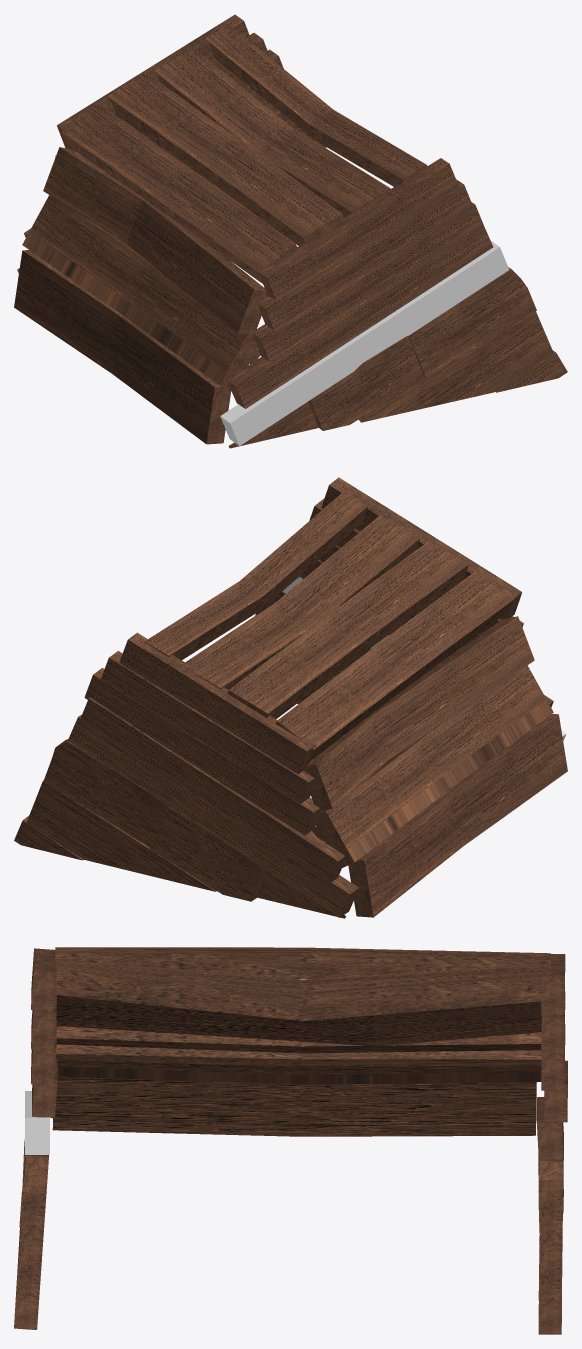
The model's file is Mine.fbx.
3 renders of one model, top to bottom at view 1: azimuth 30°, elevation 25°; view 2: azimuth 150°, elevation 25°; view 3: azimuth 270°, elevation 25°, orthographic. The views are drawn at different scales.
Parts seen in each view (by area): view 1: Plank.006, Plank.016, Plank.028, Plank.026, Plank.027, Plank.025, Plank, Plank.024, Plank.001, Plank.015, Plank.012, Plank.002 (+6 smaller); view 2: Plank.006, Plank.016, Plank.028, Plank.026, Plank.027, Plank.025, Plank.024, Plank.007, Plank.014, Plank.030, Plank.018, Plank.022 (+6 smaller); view 3: Plank.016, Plank.006, Plank.024, Plank.028, Plank.026, Plank.029, Plank.025, Plank.009, Plank.019, Plank.012, Plank.022, Plank.015 (+11 smaller).
Part boxes in pixels (x1,y1,x2,y2): Plank.006: [22, 195, 257, 390]; Plank.016: [14, 250, 231, 444]; Plank.028: [43, 147, 268, 336]; Plank.026: [107, 73, 343, 245]; Plank.027: [61, 103, 297, 283]; Plank.025: [154, 48, 390, 217]; Plank: [220, 240, 509, 445]; Plank.024: [205, 24, 427, 186]; Plank.001: [228, 228, 493, 408]; Plank.015: [258, 158, 459, 300]; Plank.012: [358, 311, 553, 422]; Plank.002: [257, 179, 473, 331]; Plank.006: [314, 665, 553, 868]; Plank.016: [348, 714, 567, 917]; Plank.028: [303, 616, 534, 811]; Plank.026: [227, 540, 468, 719]; Plank.027: [275, 571, 512, 761]; Plank.025: [181, 515, 419, 689]; Plank.024: [144, 491, 368, 660]; Plank.007: [79, 697, 345, 883]; Plank.014: [68, 714, 359, 917]; Plank.030: [119, 632, 316, 774]; Plank.018: [84, 668, 320, 835]; Plank.022: [26, 780, 216, 891]; Plank.016: [52, 1076, 536, 1136]; Plank.006: [56, 1026, 541, 1084]; Plank.024: [55, 965, 551, 1020]; Plank.028: [56, 995, 541, 1046]; Plank.026: [55, 947, 550, 978]; Plank.029: [55, 1044, 541, 1066]; Plank.025: [55, 959, 550, 991]; Plank.009: [19, 1155, 48, 1228]; Plank.019: [538, 1159, 563, 1232]; Plank.012: [16, 1227, 43, 1296]; Plank.022: [538, 1219, 562, 1300]; Plank.015: [31, 948, 56, 1011].
Bounding box in the file's own units: 827 × 541 × 912.
